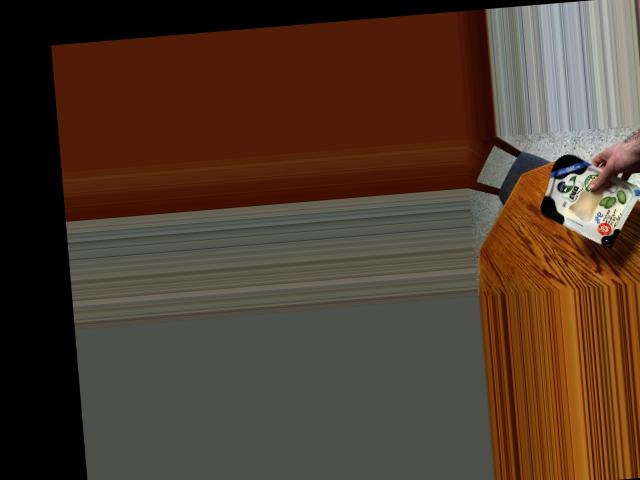cheese: (529, 149, 631, 245)
